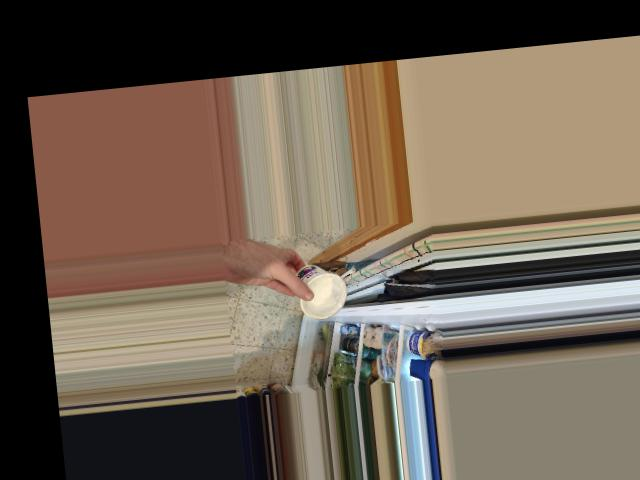cotage: (289, 258, 354, 322)
